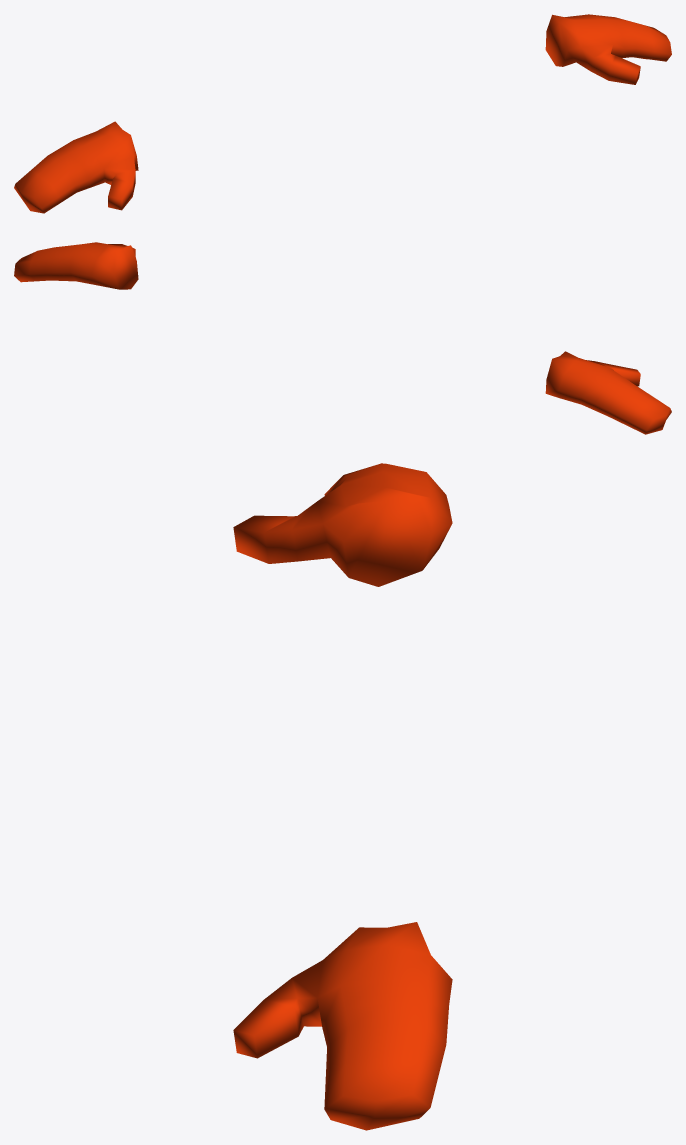
Rendered from glovesExtended.fbx.
The picture shows the model from 3 angles, top to bottom: view 1: azimuth 30°, elevation 25°; view 2: azimuth 150°, elevation 25°; view 3: azimuth 270°, elevation 25°; orthographic projection. The views are drawn at different scales.
Visible parts, largest first — view 1: GlovesExtended; view 2: GlovesExtended; view 3: GlovesExtended.
Part boxes in pixels (x1,y1,x2,y2): GlovesExtended: [14, 14, 671, 213]; GlovesExtended: [14, 242, 671, 434]; GlovesExtended: [233, 463, 452, 1130].
Size of the model in its own units: 388 by 32.58 by 57.1.
